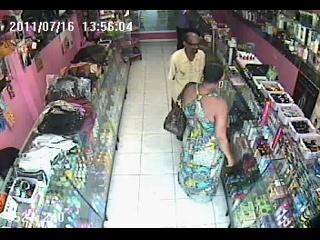Normal: (177, 64, 240, 172), (166, 31, 206, 104), (163, 98, 187, 140)
